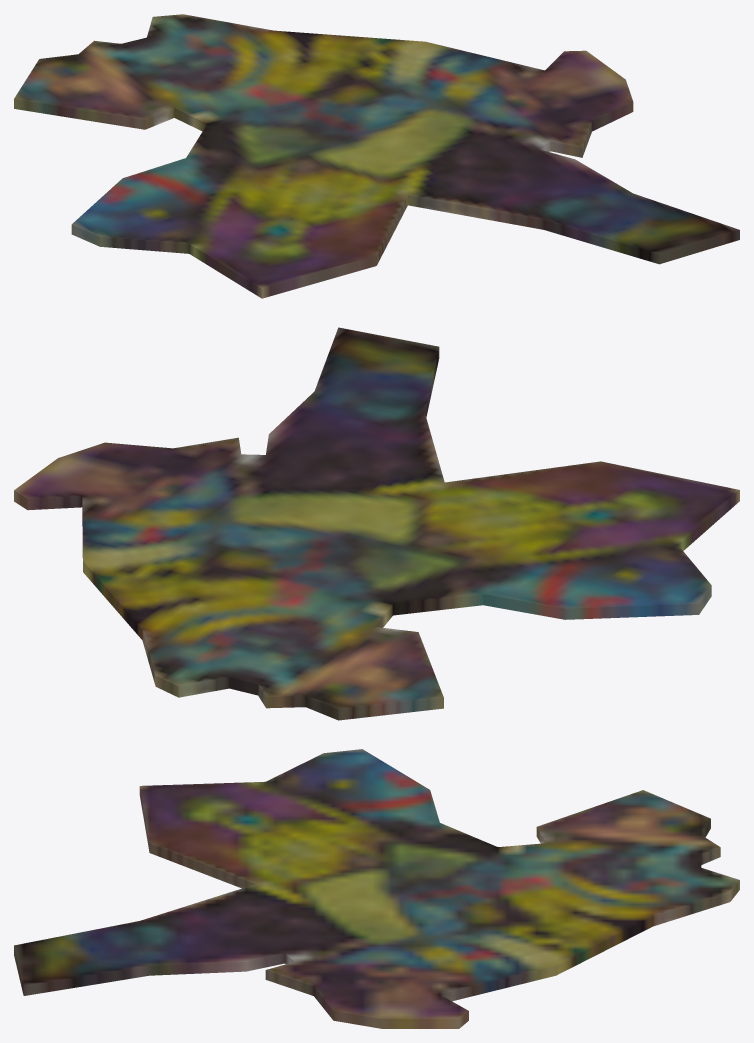
Rendered from QuaiChien.glb.
3 renders of one model, top to bottom at view 1: azimuth 30°, elevation 25°; view 2: azimuth 150°, elevation 25°; view 3: azimuth 270°, elevation 25°, orthographic. The views are drawn at different scales.
Visible parts, largest first — view 1: QuaiChien; view 2: QuaiChien; view 3: QuaiChien.
Boxes of the visible parts, x1=… form: QuaiChien: x1=14, y1=14, x2=739, y2=298; QuaiChien: x1=14, y1=327, x2=739, y2=720; QuaiChien: x1=14, y1=749, x2=739, y2=1028.
Bounding box in the file's own units: 0.2953 × 0.005 × 0.3355.
1 material, 1 textured.
